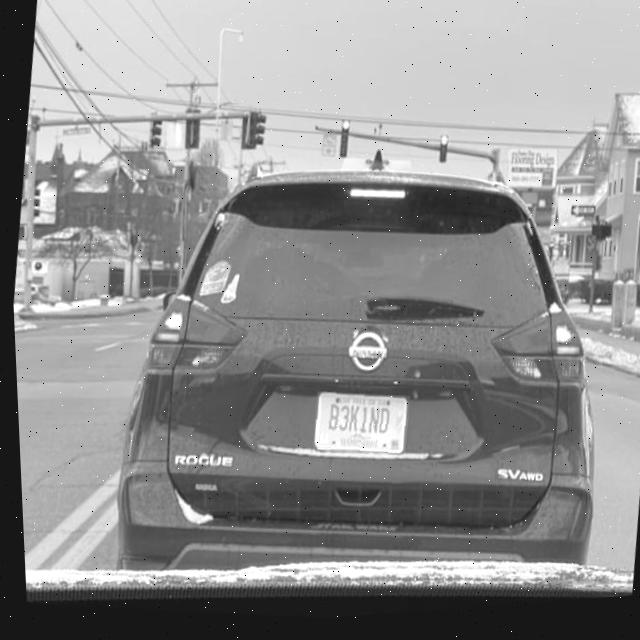LicensePlate: (309, 396, 405, 461)
